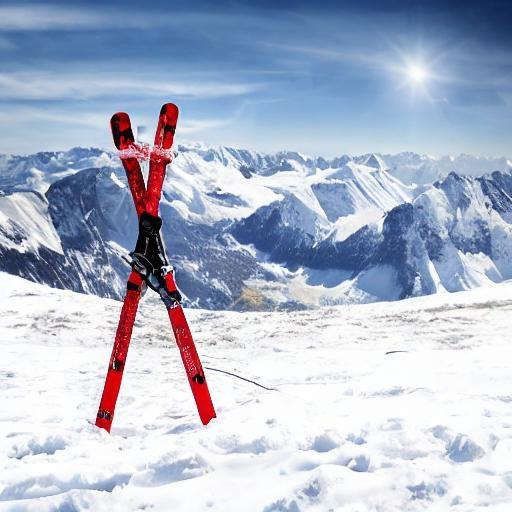Skis: (103, 107, 223, 429), (82, 95, 186, 441)
